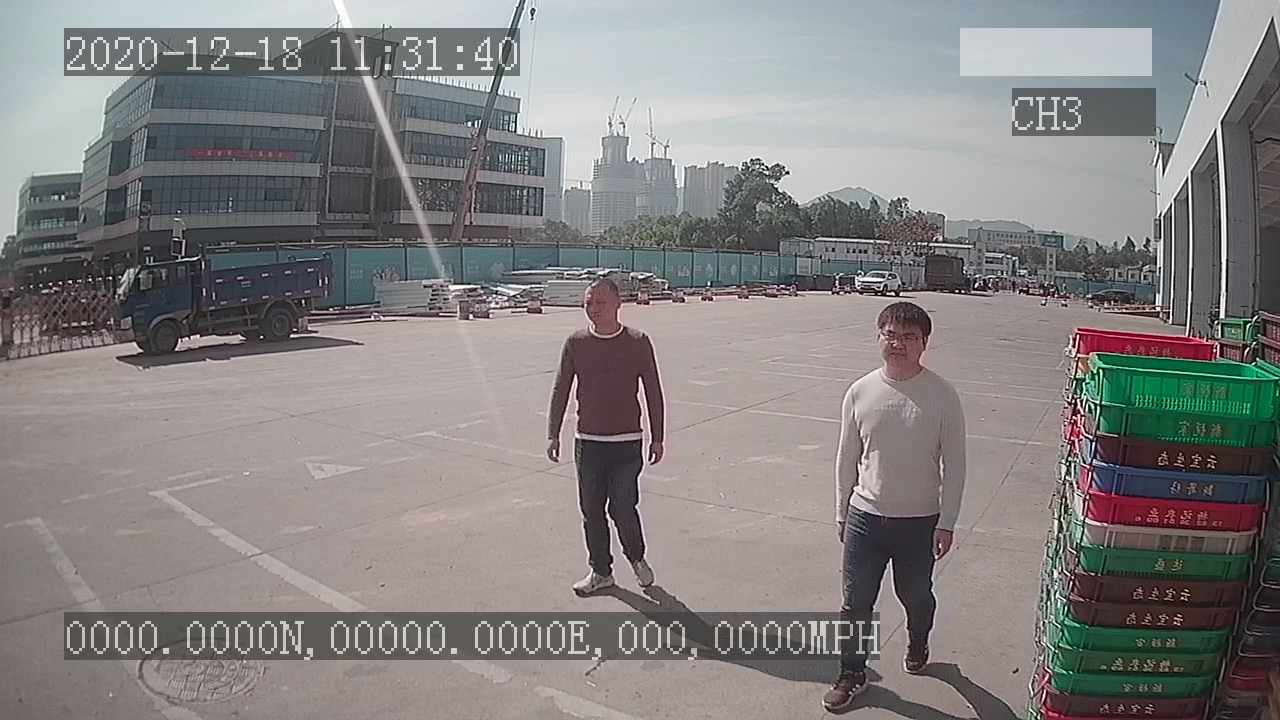person: (544, 279, 676, 596)
